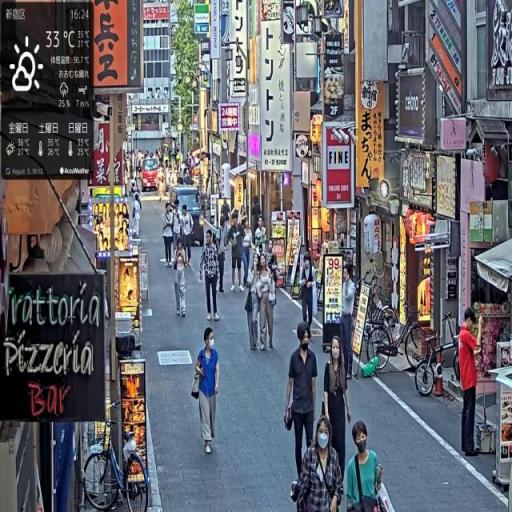person: (285, 323, 320, 493), (291, 414, 346, 512), (323, 335, 354, 486), (192, 327, 221, 456), (459, 308, 483, 458), (346, 420, 385, 512), (255, 254, 278, 353), (199, 228, 222, 321), (342, 263, 358, 381), (173, 237, 193, 319), (299, 248, 317, 337), (229, 211, 246, 293), (216, 213, 231, 295), (181, 201, 196, 271), (162, 203, 175, 270)
